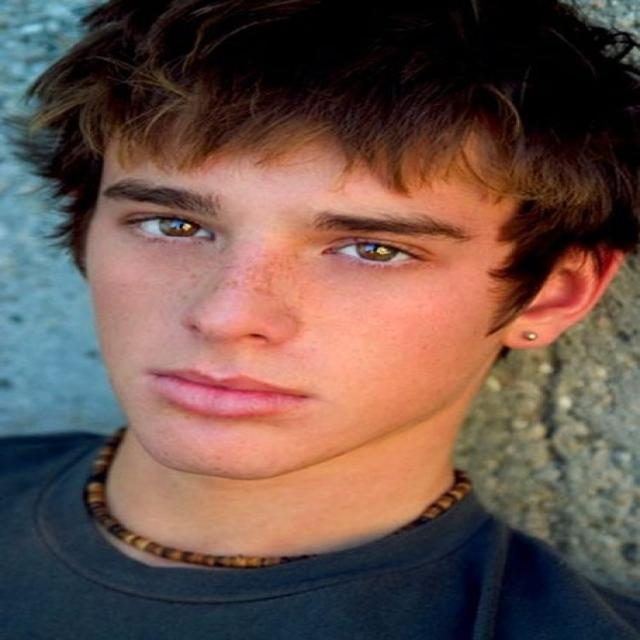front: (90, 169, 461, 463)
